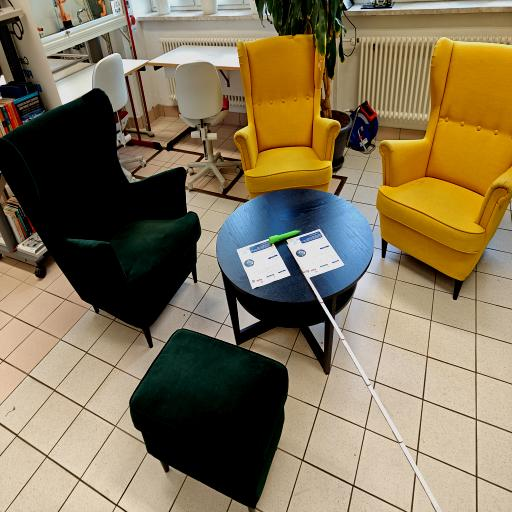Probe-Detection: (269, 230, 300, 244)
